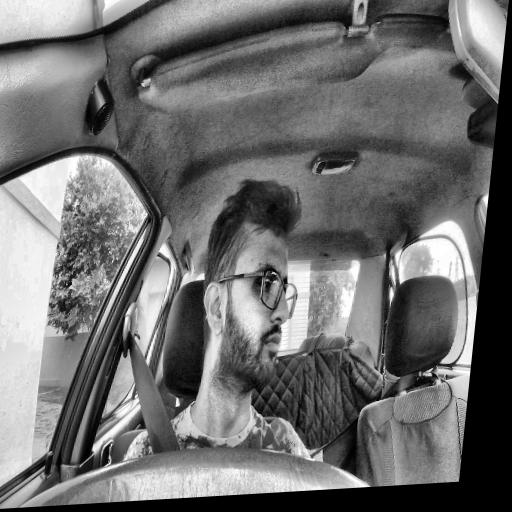awake: (191, 175, 311, 404)
